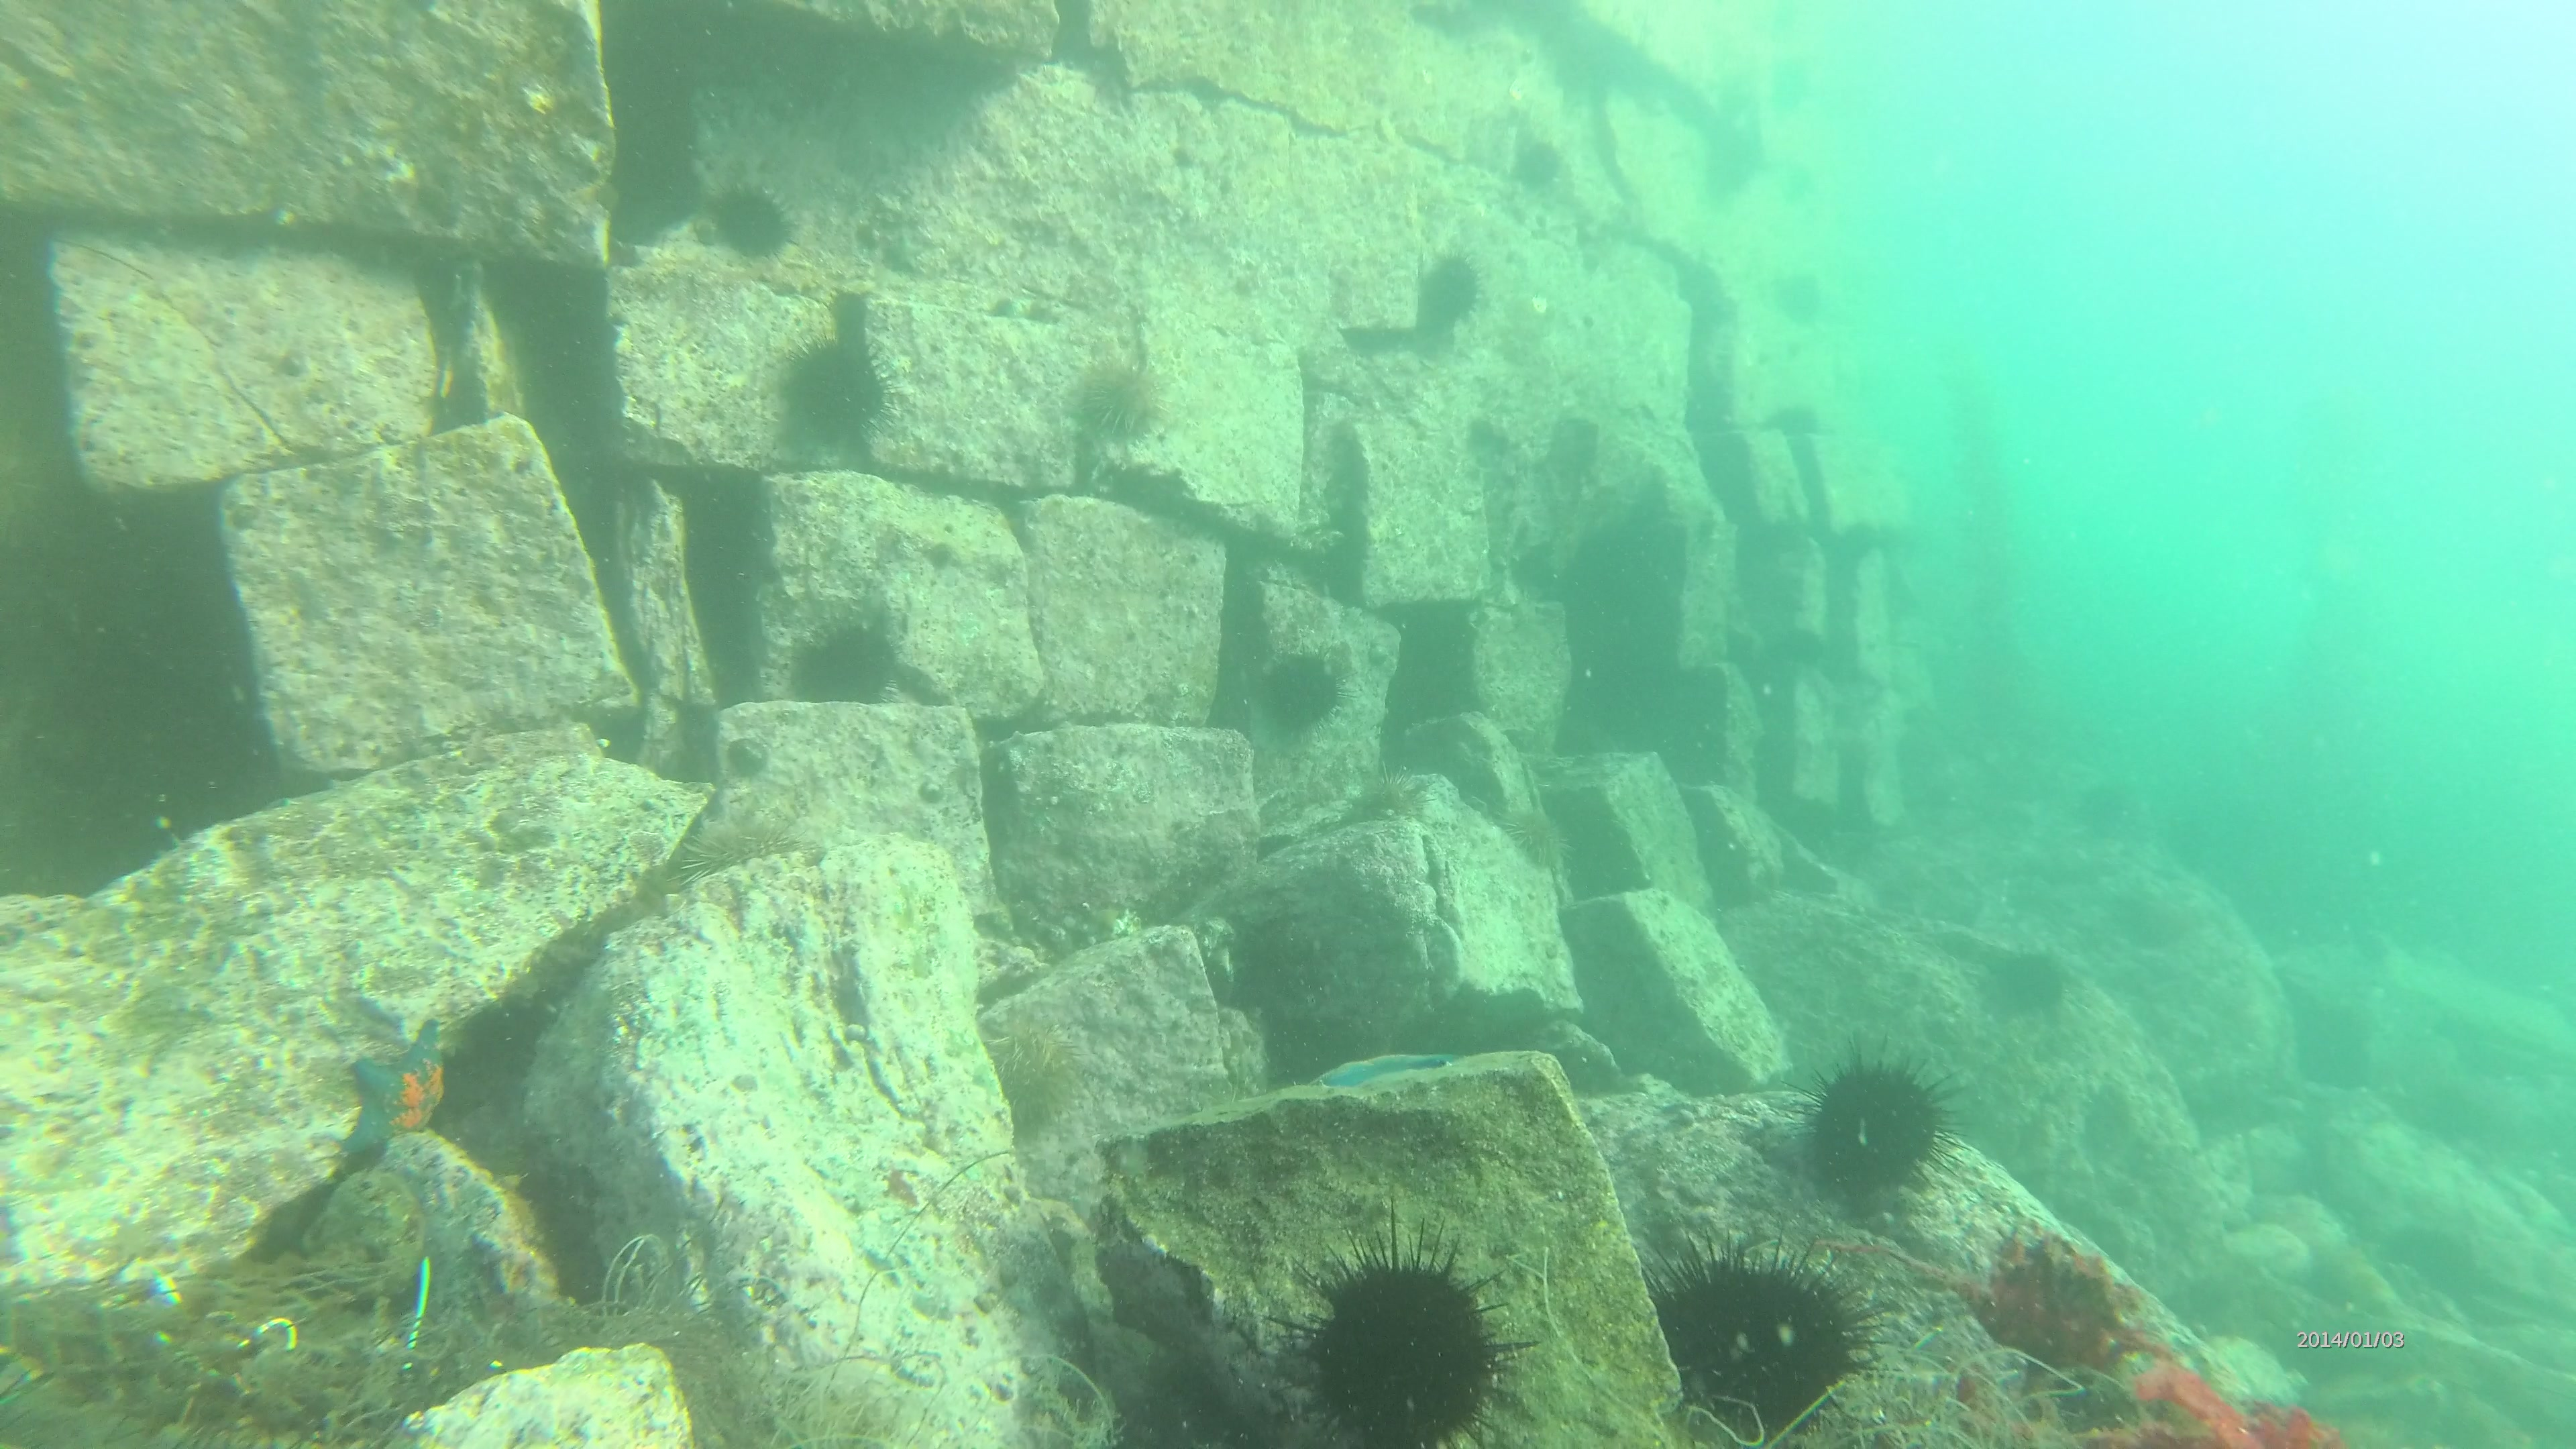echinus: (1246, 1201, 1553, 1449), (1608, 1221, 1904, 1422), (1798, 1039, 1985, 1231), (775, 318, 906, 456), (1065, 338, 1182, 446), (786, 612, 901, 711), (982, 1033, 1072, 1141), (1260, 644, 1355, 743), (1325, 757, 1435, 839), (672, 816, 801, 883), (717, 175, 796, 283), (1421, 244, 1488, 333), (1499, 805, 1562, 883), (1785, 621, 1828, 678)
starfish: (345, 1019, 453, 1191), (1304, 1042, 1465, 1095)
